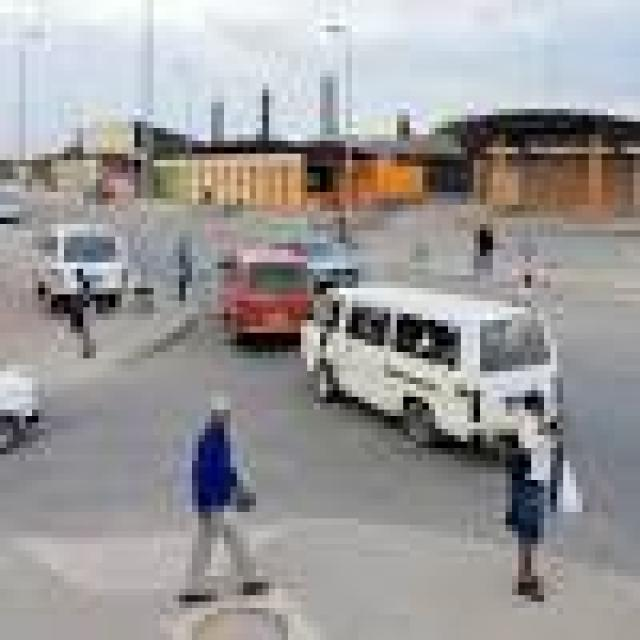MiniBus taxi: (288, 269, 570, 448), (218, 230, 307, 352)
Pedestrians: (167, 384, 276, 602), (506, 378, 582, 602), (51, 256, 115, 371)
